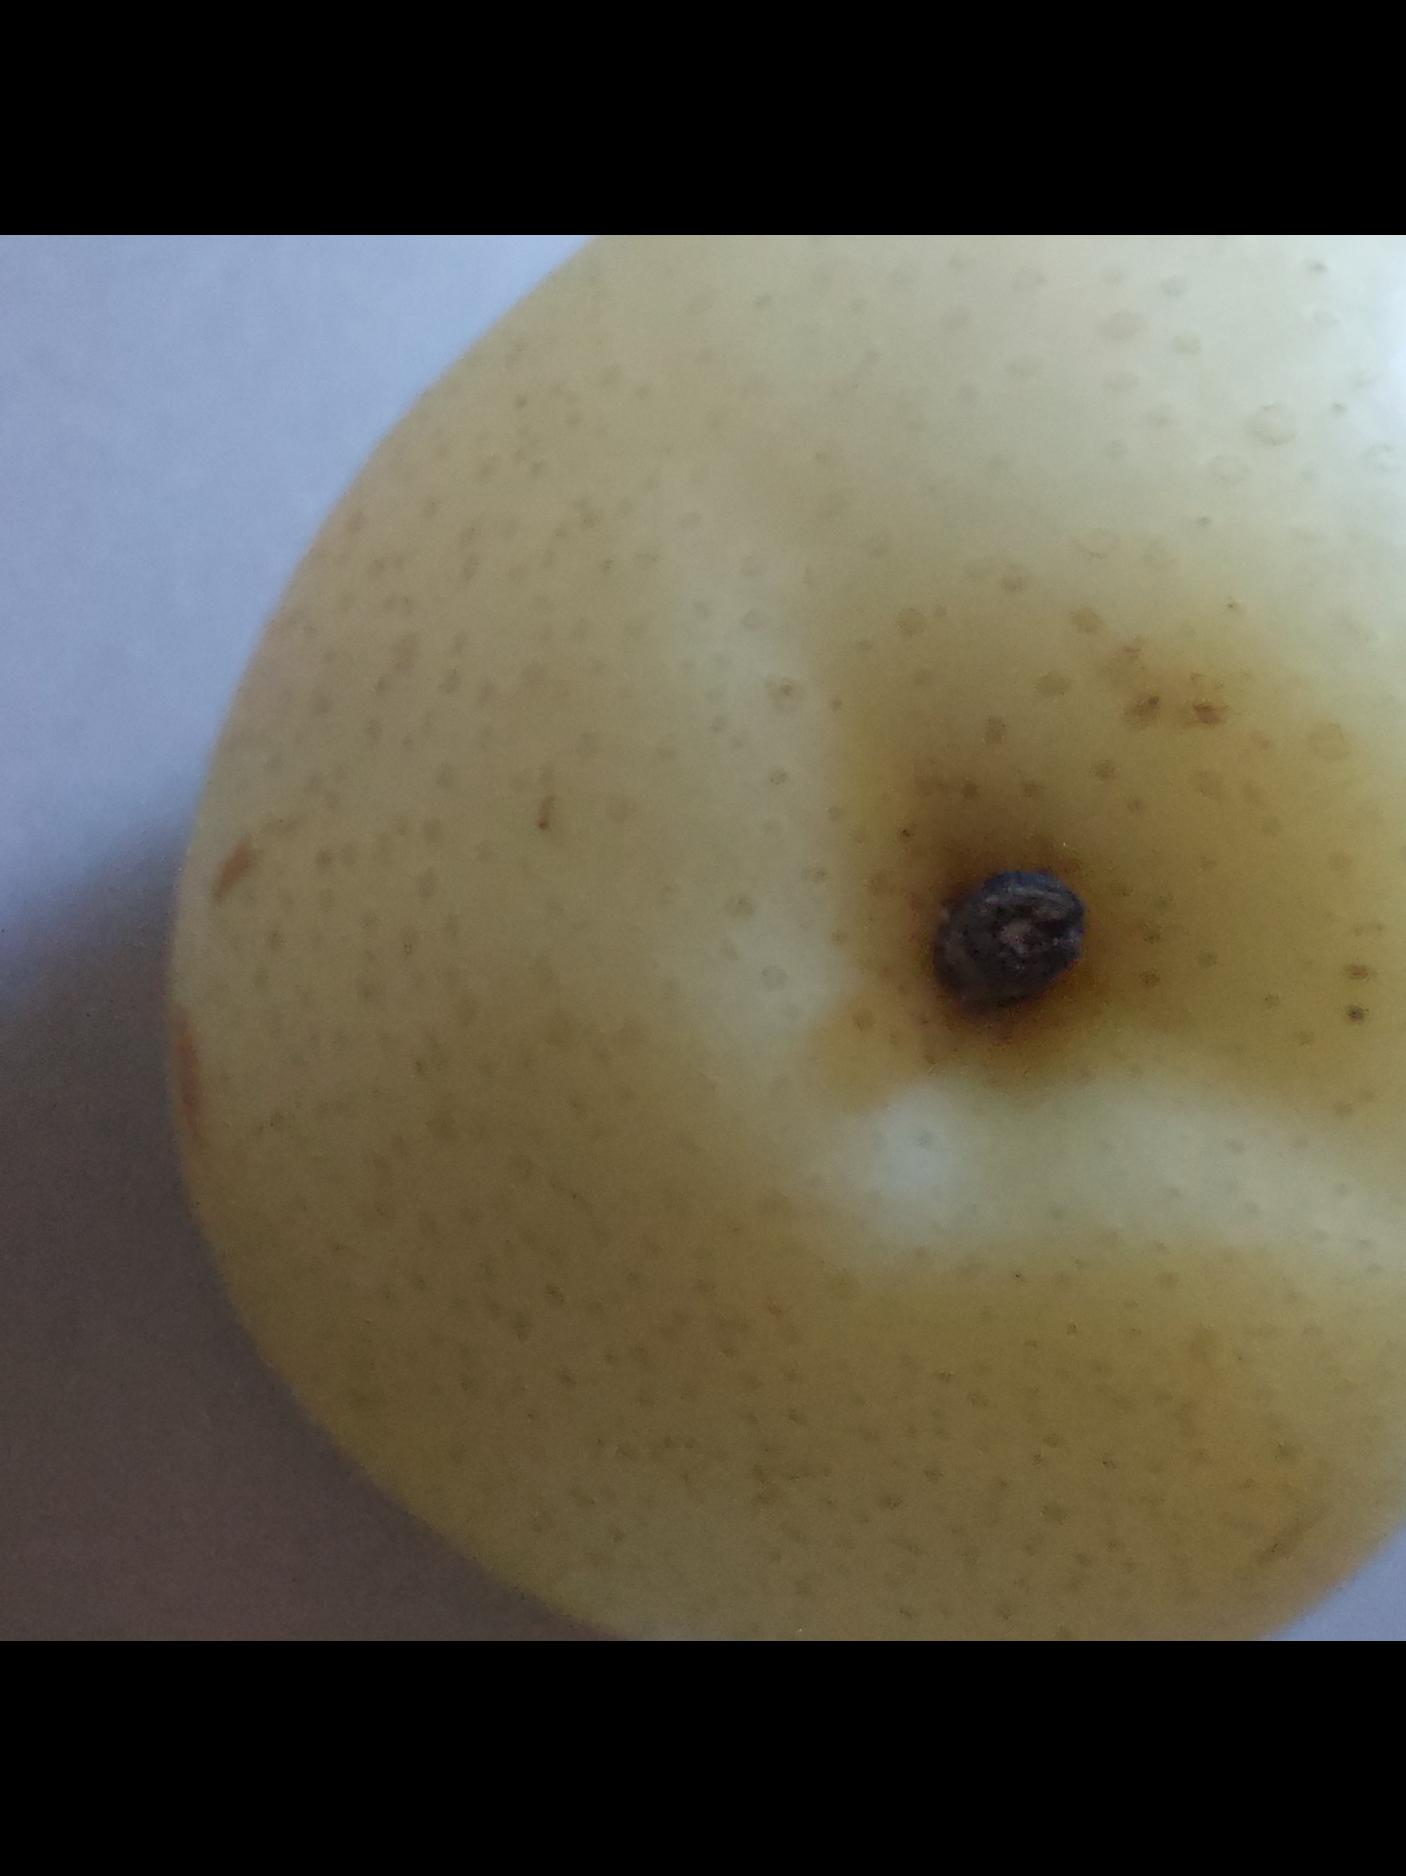Good Pear: (158, 235, 1406, 1641)
